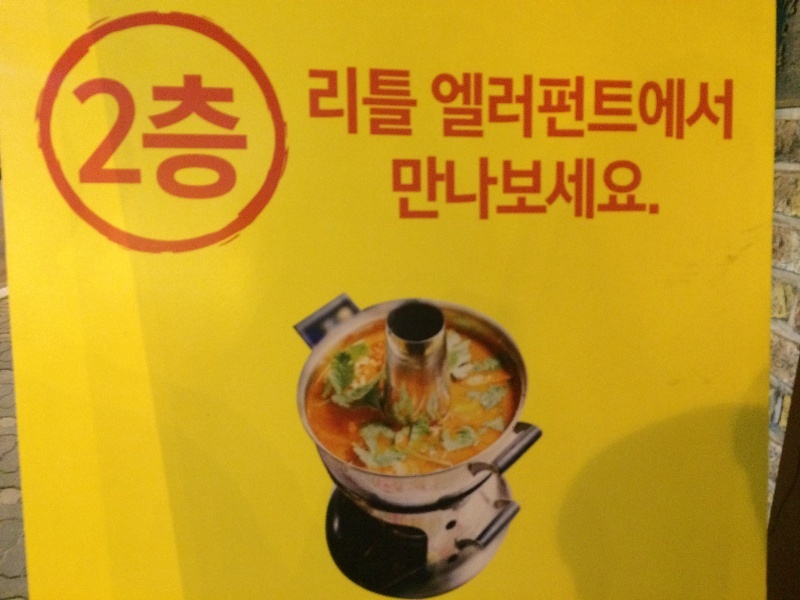text: (65, 48, 80, 209), (81, 48, 96, 209), (97, 48, 112, 209), (113, 48, 128, 209), (129, 48, 144, 209), (145, 48, 160, 209), (161, 48, 176, 209), (177, 48, 192, 209), (193, 48, 208, 209), (209, 48, 224, 209), (225, 48, 240, 209), (51, 48, 64, 209), (241, 48, 254, 209), (305, 60, 320, 148), (321, 60, 336, 148), (337, 60, 352, 148), (353, 60, 368, 148), (369, 60, 384, 148), (385, 60, 400, 148), (401, 60, 416, 148), (385, 152, 400, 226), (401, 152, 416, 226), (417, 152, 432, 226), (433, 152, 448, 226), (449, 152, 464, 226), (465, 152, 480, 226), (481, 152, 496, 226), (497, 152, 512, 226), (513, 152, 528, 226), (529, 152, 544, 226), (545, 152, 560, 226), (561, 152, 576, 226), (577, 152, 592, 226), (593, 152, 608, 226), (609, 152, 624, 226), (625, 152, 640, 226), (641, 152, 656, 226), (433, 69, 448, 142), (449, 69, 464, 142), (465, 69, 480, 142), (481, 69, 496, 142), (497, 69, 512, 142), (513, 69, 528, 142), (529, 69, 544, 142), (545, 69, 560, 142), (561, 69, 576, 142), (577, 69, 592, 142), (593, 69, 608, 142), (609, 69, 624, 142), (625, 69, 640, 142), (641, 69, 656, 142), (657, 69, 672, 142), (673, 69, 688, 142), (689, 69, 704, 142), (705, 69, 720, 142), (721, 69, 736, 142), (417, 60, 423, 148), (657, 152, 664, 226), (429, 69, 432, 142), (737, 69, 738, 142)
